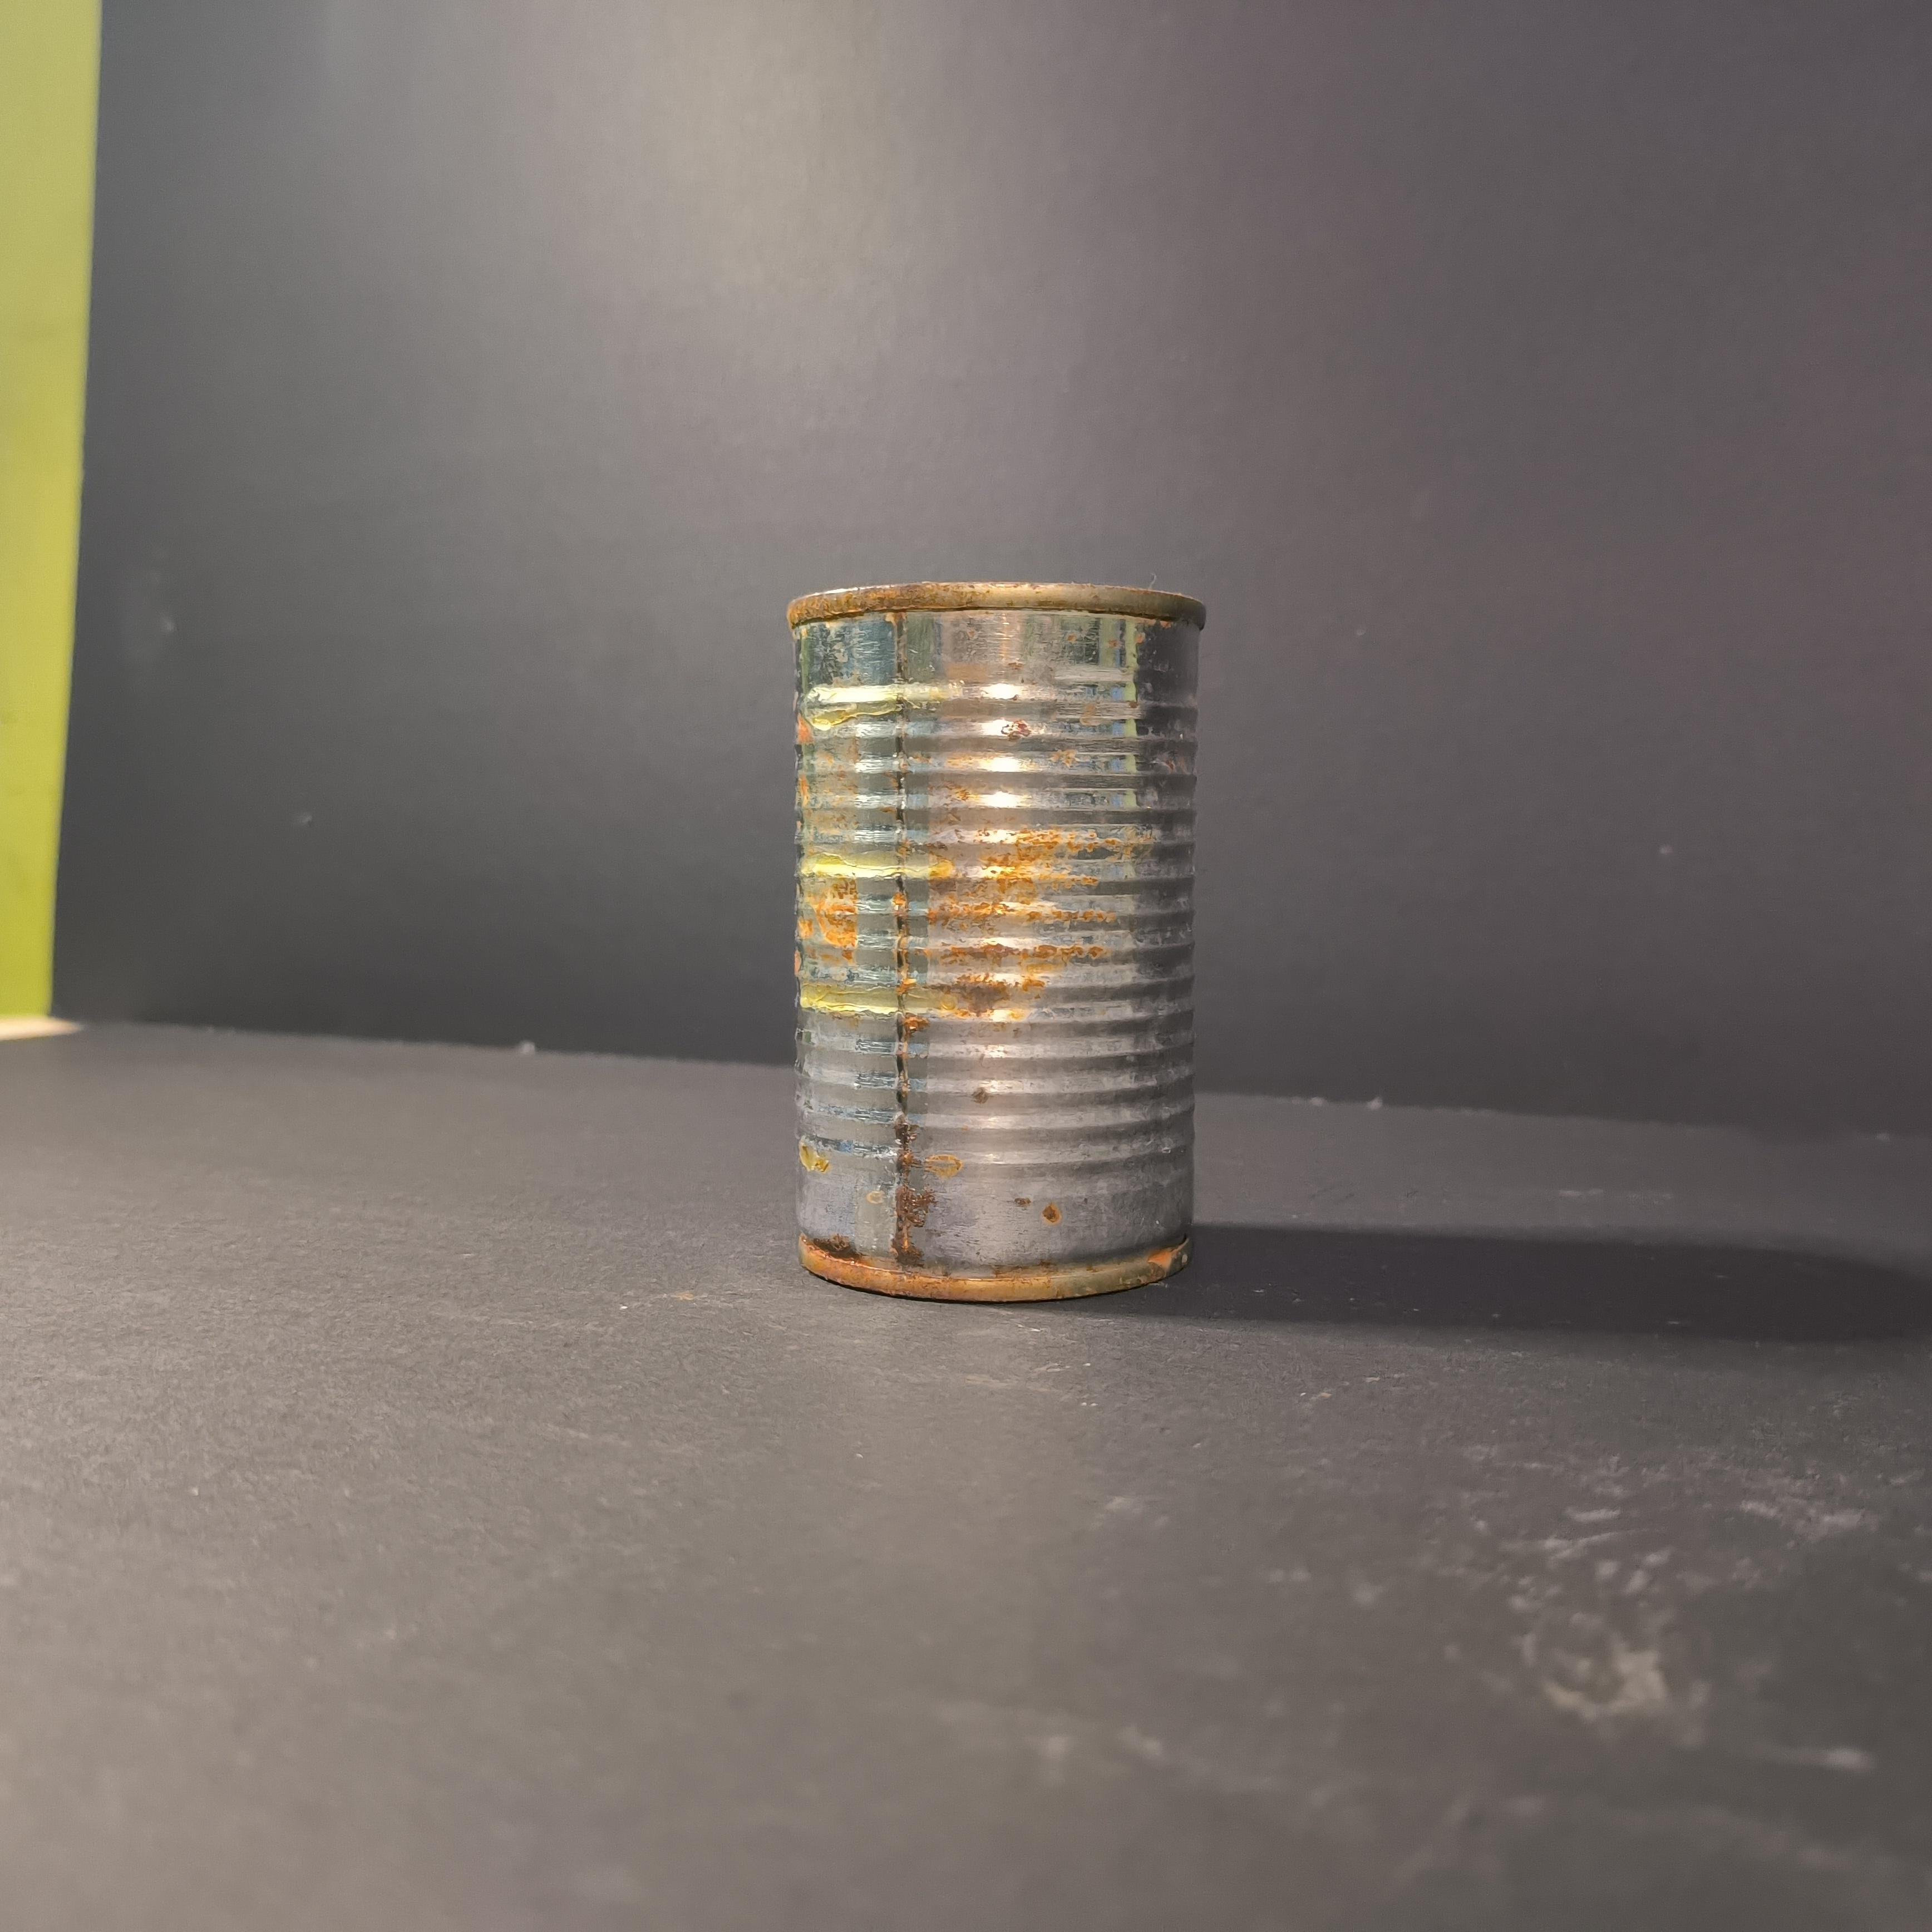Rusted: (777, 564, 1230, 1302)
